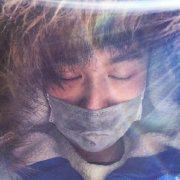WRONG: (46, 51, 149, 151)
